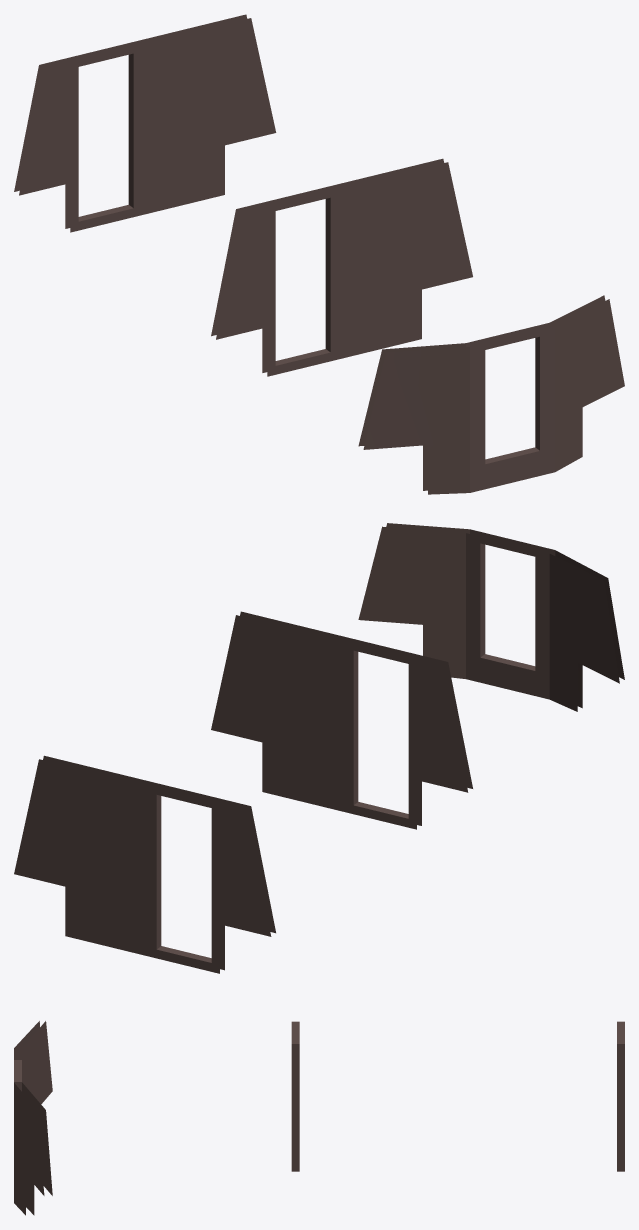
File: walls.glb
3 views of the same model, one above another, from view 1: azimuth 30°, elevation 25°; view 2: azimuth 150°, elevation 25°; view 3: azimuth 270°, elevation 25° (orthographic). The views are drawn at different scales.
Visible parts, largest first — view 1: walls; view 2: walls; view 3: walls.
Part boxes in pixels (box(x1,y1,x2,y2)): walls: box(14, 14, 624, 494); walls: box(14, 523, 624, 973); walls: box(14, 1021, 624, 1215).
Bounding box in the file's own units: 3.08 × 1.94 × 7.55.
